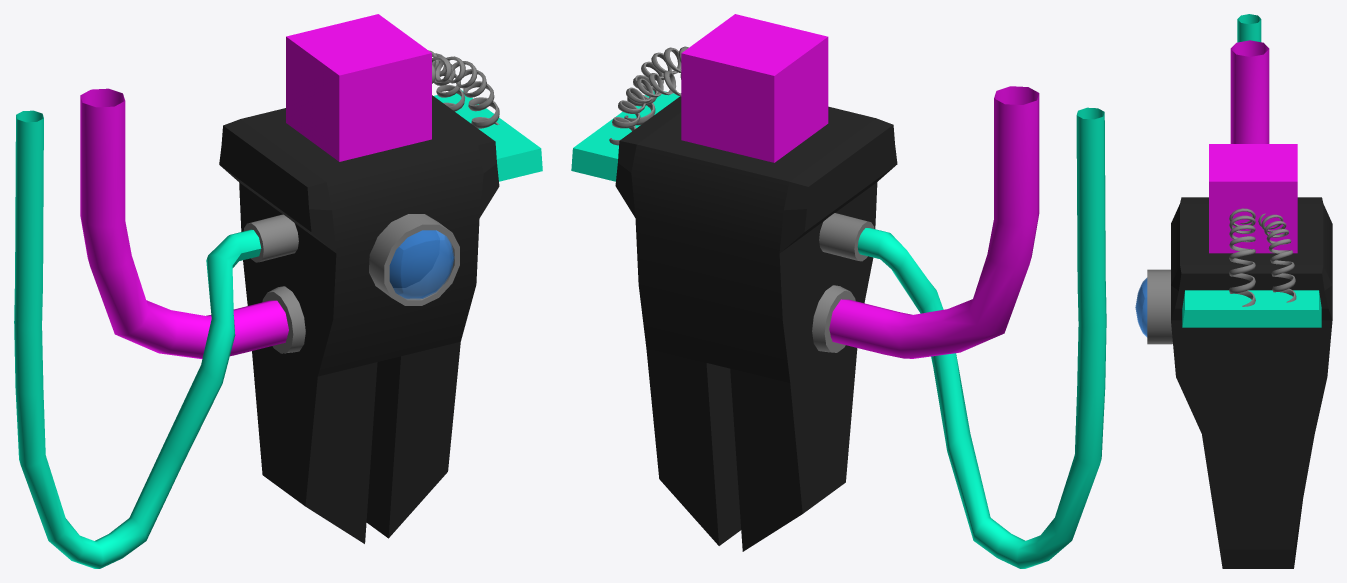
The model's file is Camara.FBX.
3 views of the same model, side by side, from view 1: azimuth 30°, elevation 25°; view 2: azimuth 150°, elevation 25°; view 3: azimuth 270°, elevation 25° (orthographic). The views are drawn at different scales.
Parts seen in each view (by area): view 1: G_Camara; view 2: G_Camara; view 3: G_Camara.
Boxes of the visible parts, x1,y1,x2,y2 form: G_Camara: (14,14,542,568); G_Camara: (571,14,1106,568); G_Camara: (1135,14,1332,568).
Bounding box in the file's own units: 50.2 × 48.69 × 21.16.
